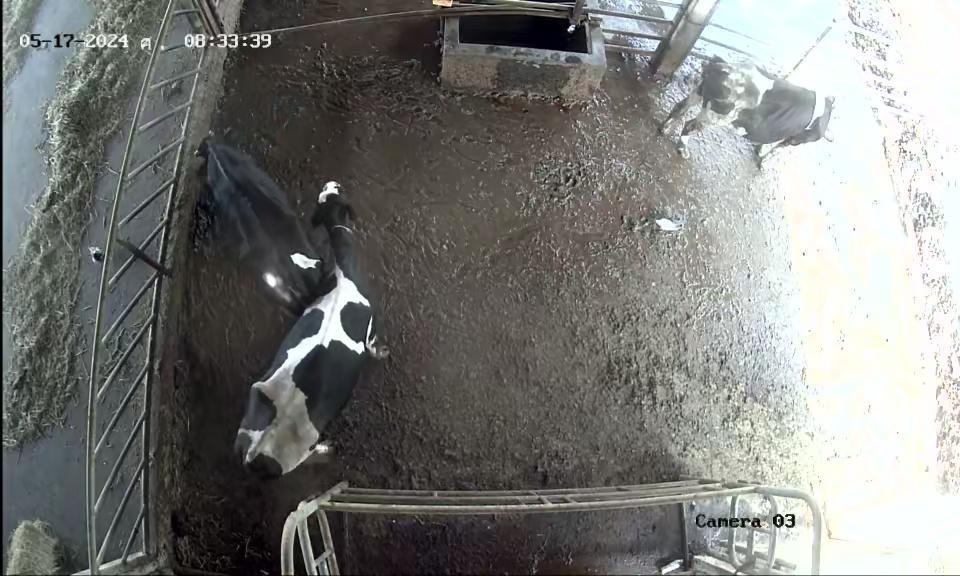lay: (198, 120, 318, 318)
stand: (229, 167, 400, 490), (657, 45, 855, 180)
